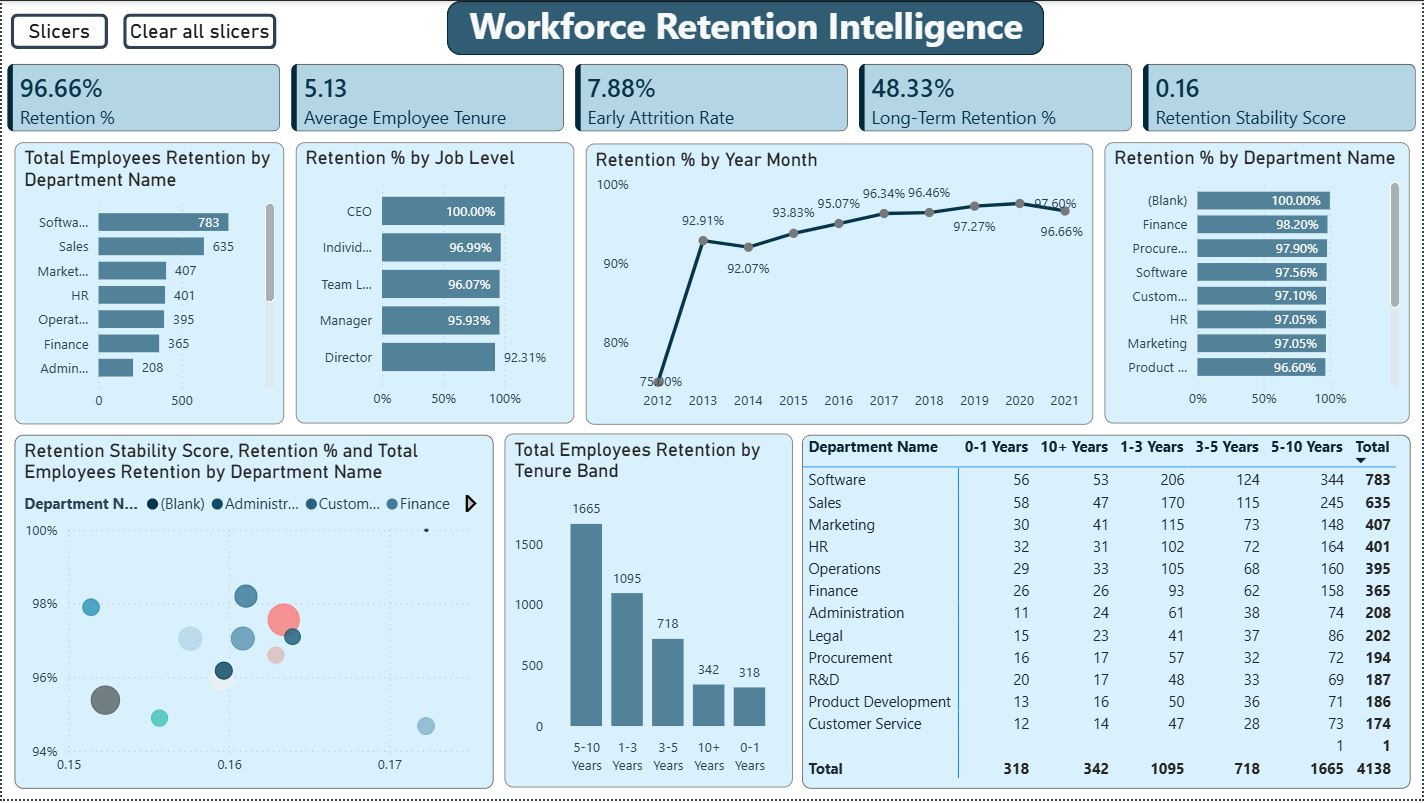

The dashboard page shown, as its layout file describes it:
{"tool":"powerbi","page":{"name":"Retention Intelligence","canvas":[1280,720],"ordinal":4},"visuals":[{"type":"shape","box":[400.7,0,538.4,48.7],"z":0},{"type":"cardVisual","fields":{"Data":["measures (2).Retention %","measures (2).Average Employee Tenure","measures (2).Early Attrition Rate","measures (2).Long-Term Retention %","measures (2).Retention Stability Score"]},"box":[0,51.8,1280.4,71],"z":1000},{"type":"barChart","fields":{"Y":["measures (2).Test Employees"],"Category":["dim_department.Department Name"]},"box":[11.3,127.4,243.5,254.7],"z":2000},{"type":"barChart","fields":{"Category":["dim_job_level.job_level_name"],"Y":["measures (2).Retention %"]},"box":[264.9,127.4,251.3,253.6],"z":3000},{"type":"barChart","fields":{"Y":["measures (2).Retention %"],"Category":["dim_department.Department Name"]},"box":[994.1,127.4,275,253.6],"z":4000},{"type":"columnChart","fields":{"Category":["mart_retention.Tenure Band"],"Y":["measures (2).Total Employees Retention"]},"box":[453.1,390,260,319],"z":5000},{"type":"scatterChart","fields":{"X":["measures (2).Retention Stability Score"],"Size":["measures (2).Total Employees Retention"],"Y":["measures (2).Retention %"],"Series":["mart_retention.department_name"]},"box":[11.3,391.1,431.7,319],"z":6000},{"type":"lineChart","fields":{"Y":["measures (2).Retention %"],"Category":["dim_date.Year Month (groups)"]},"box":[526.4,128.5,457.6,253.6],"z":7000},{"type":"pivotTable","fields":{"Columns":["mart_retention.Tenure Band"],"Values":["measures (2).Total Employees Retention"],"Rows":["dim_department.Department Name"]},"box":[721.4,391.1,548.9,319],"z":8000},{"type":"textbox","box":[415.5,0,510,47.3],"z":15000},{"type":"actionButton","title":"FILTERS","box":[8.3,11.1,87.7,32],"z":16000},{"type":"actionButton","box":[109.5,11.2,138.1,32.3],"z":17000}]}

Visuals, with their boxes in screenshot pixels (x1, y1, x2, y2), scaled from the page's 1280x720 canvas onto the 1424x803 screenshot:
shape: (x1=446, y1=0, x2=1045, y2=54)
cardVisual - measures (2).Retention % x measures (2).Average Employee Tenure: (x1=0, y1=58, x2=1423, y2=137)
barChart - measures (2).Test Employees x dim_department.Department Name: (x1=13, y1=142, x2=283, y2=426)
barChart - dim_job_level.job_level_name x measures (2).Retention %: (x1=295, y1=142, x2=574, y2=425)
barChart - measures (2).Retention % x dim_department.Department Name: (x1=1106, y1=142, x2=1412, y2=425)
columnChart - mart_retention.Tenure Band x measures (2).Total Employees Retention: (x1=504, y1=435, x2=793, y2=791)
scatterChart - measures (2).Retention Stability Score x measures (2).Total Employees Retention: (x1=13, y1=436, x2=493, y2=792)
lineChart - measures (2).Retention % x dim_date.Year Month (groups): (x1=586, y1=143, x2=1095, y2=426)
pivotTable - mart_retention.Tenure Band x measures (2).Total Employees Retention: (x1=803, y1=436, x2=1413, y2=792)
textbox: (x1=462, y1=0, x2=1030, y2=53)
"FILTERS" actionButton: (x1=9, y1=12, x2=107, y2=48)
actionButton: (x1=122, y1=12, x2=275, y2=49)
